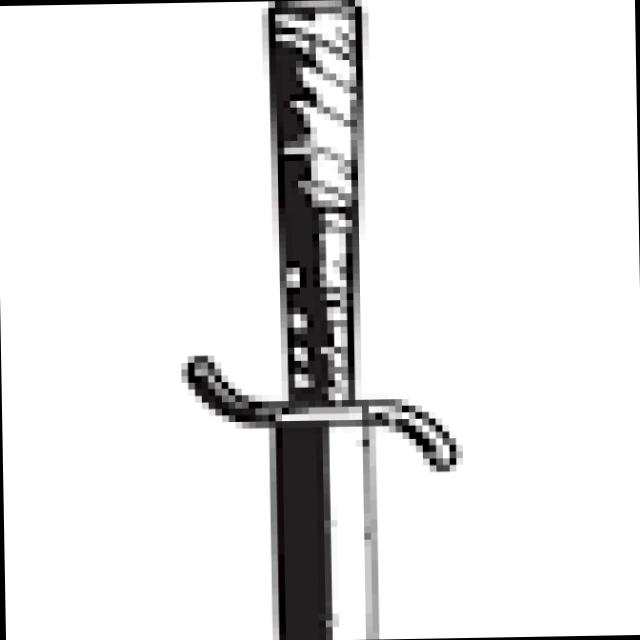Gun: (141, 0, 472, 640)
